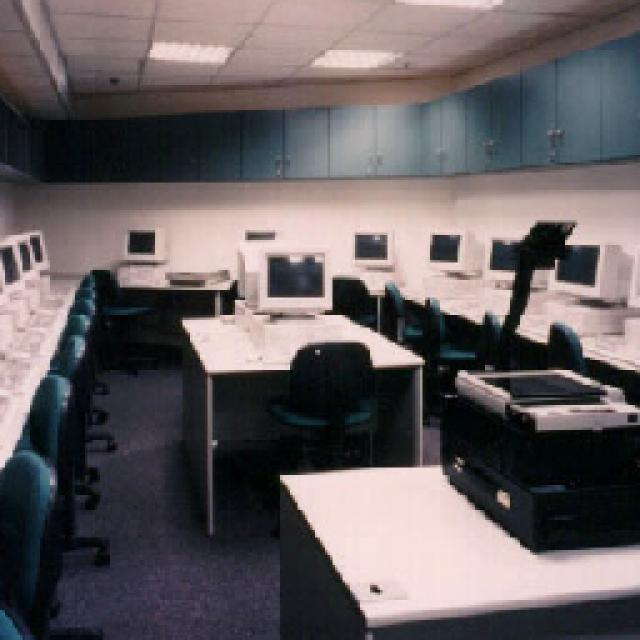cabinets: (418, 30, 635, 175), (38, 102, 418, 182), (0, 95, 35, 182)
ceiling lamps: (145, 35, 230, 62), (305, 45, 400, 68), (390, 0, 497, 8)
chair -occluded-: (265, 340, 372, 462), (90, 265, 142, 322)
chair seat: (0, 445, 102, 635), (28, 372, 78, 500), (415, 298, 472, 365), (50, 330, 88, 422), (378, 278, 418, 342), (330, 272, 378, 318), (542, 320, 582, 372), (480, 308, 502, 362)
computer crop: (245, 318, 352, 362), (550, 302, 620, 332), (420, 272, 478, 298)
desk calendar: (278, 460, 635, 632), (178, 312, 420, 532), (0, 278, 80, 473), (112, 268, 232, 290)
keyboard crop: (585, 340, 635, 365), (20, 305, 52, 328), (12, 328, 45, 350), (40, 295, 60, 308)
lots of chairs: (65, 272, 95, 332)
monitor crop: (545, 238, 632, 300), (255, 245, 328, 310), (485, 235, 545, 285), (425, 225, 485, 272), (350, 230, 392, 265), (120, 222, 160, 258)
monitors: (0, 228, 48, 300)
overhead projector: (435, 368, 638, 550)
